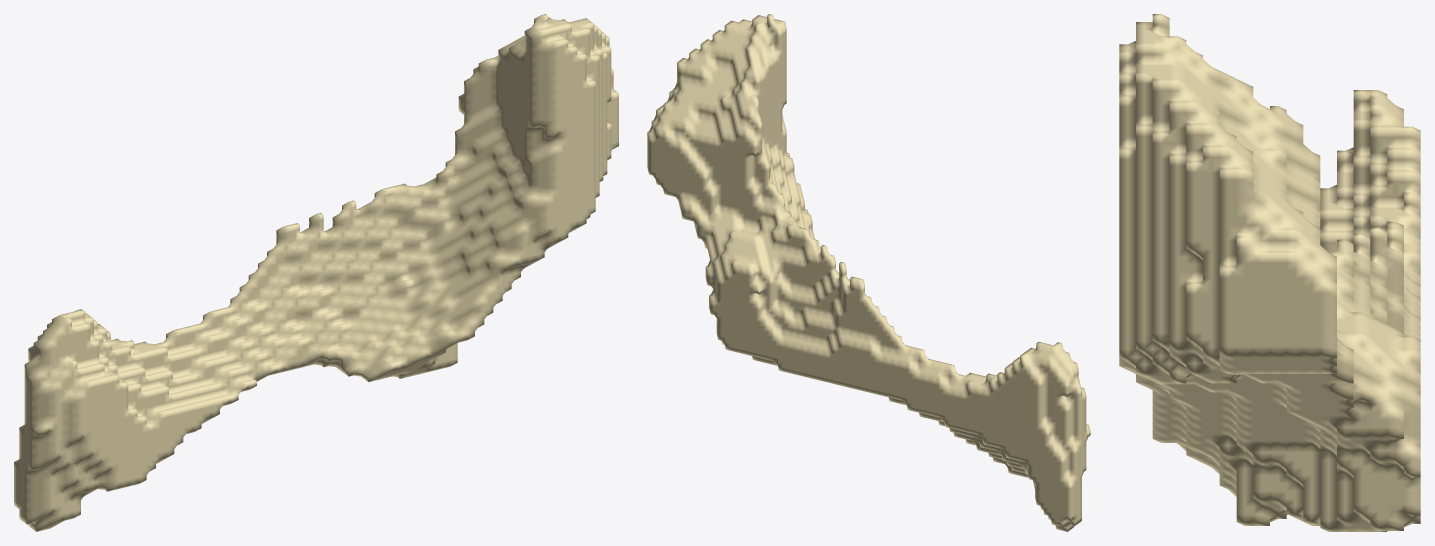
Rendered from region-17.glb.
3 renders of one model, left to right at view 1: azimuth 30°, elevation 25°; view 2: azimuth 150°, elevation 25°; view 3: azimuth 270°, elevation 25°, orthographic. The views are drawn at different scales.
Visible parts, largest first — view 1: digimouse-volume:17; view 2: digimouse-volume:17; view 3: digimouse-volume:17.
Boxes of the visible parts, box(x1,y1,x2,y2) form: digimouse-volume:17: box(14, 14, 618, 531); digimouse-volume:17: box(647, 14, 1090, 531); digimouse-volume:17: box(1119, 14, 1420, 531).
Bounding box in the file's own units: 0.0118 × 0.0096 × 0.0036.
